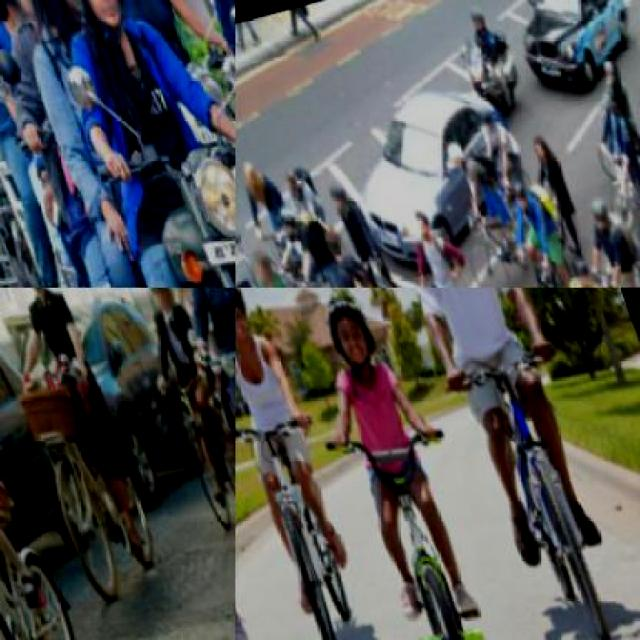With Helmet: (314, 288, 389, 377), (235, 288, 280, 368), (39, 0, 130, 26), (564, 243, 598, 286), (506, 168, 536, 212), (584, 182, 614, 225), (472, 95, 499, 133), (326, 175, 352, 214), (468, 0, 488, 26)
Without Helmet: (4, 0, 89, 35), (400, 188, 442, 246), (245, 245, 280, 286), (237, 156, 266, 198), (144, 288, 182, 309)
